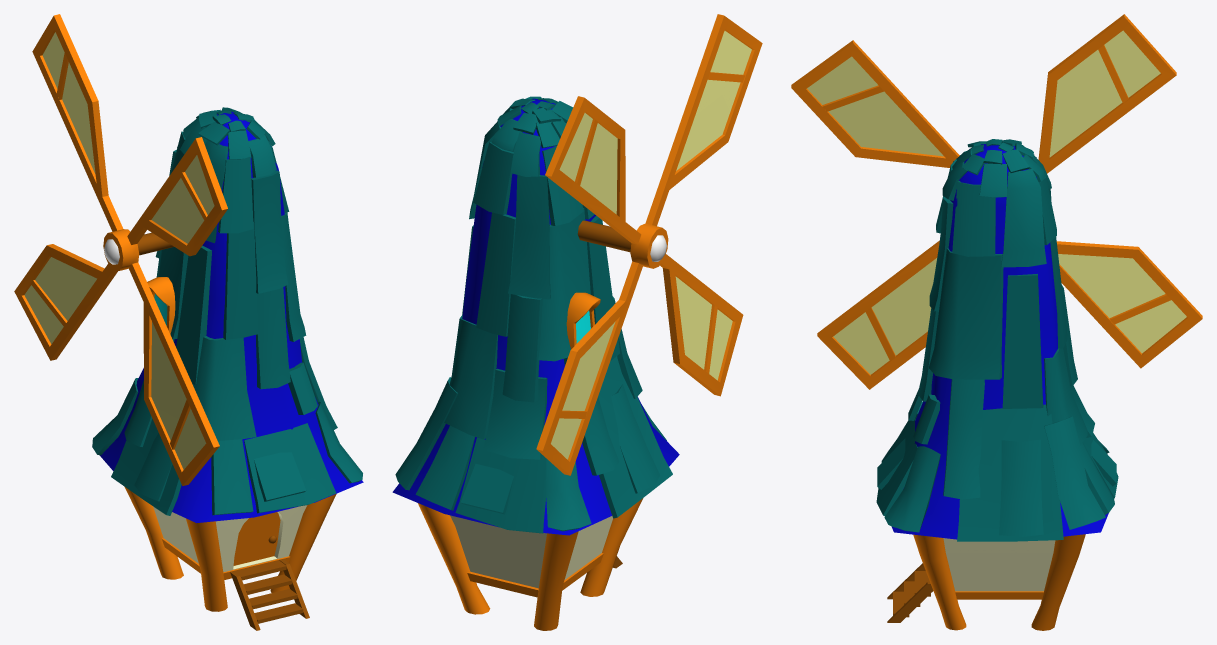
Rendered from F_Windtower.fbx.
The picture shows the model from 3 angles, left to right: view 1: azimuth 30°, elevation 25°; view 2: azimuth 150°, elevation 25°; view 3: azimuth 270°, elevation 25°; orthographic projection. The views are drawn at different scales.
Parts seen in each view (by area): view 1: Cylinder084; view 2: Cylinder084; view 3: Cylinder084.
Boxes of the visible parts, x1,y1,x2,y2 form: Cylinder084: (14, 14, 363, 630); Cylinder084: (392, 14, 762, 630); Cylinder084: (791, 14, 1202, 630).
Size of the model in its own units: 383 by 905 by 621.
